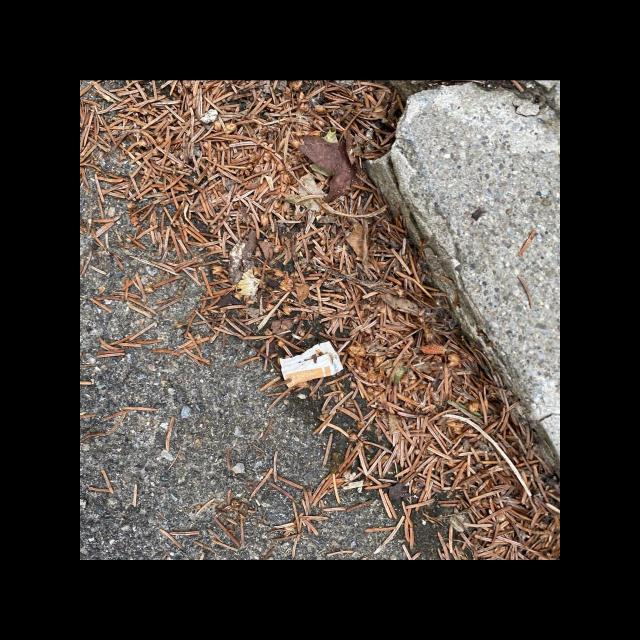cigarette: (279, 340, 343, 388)
